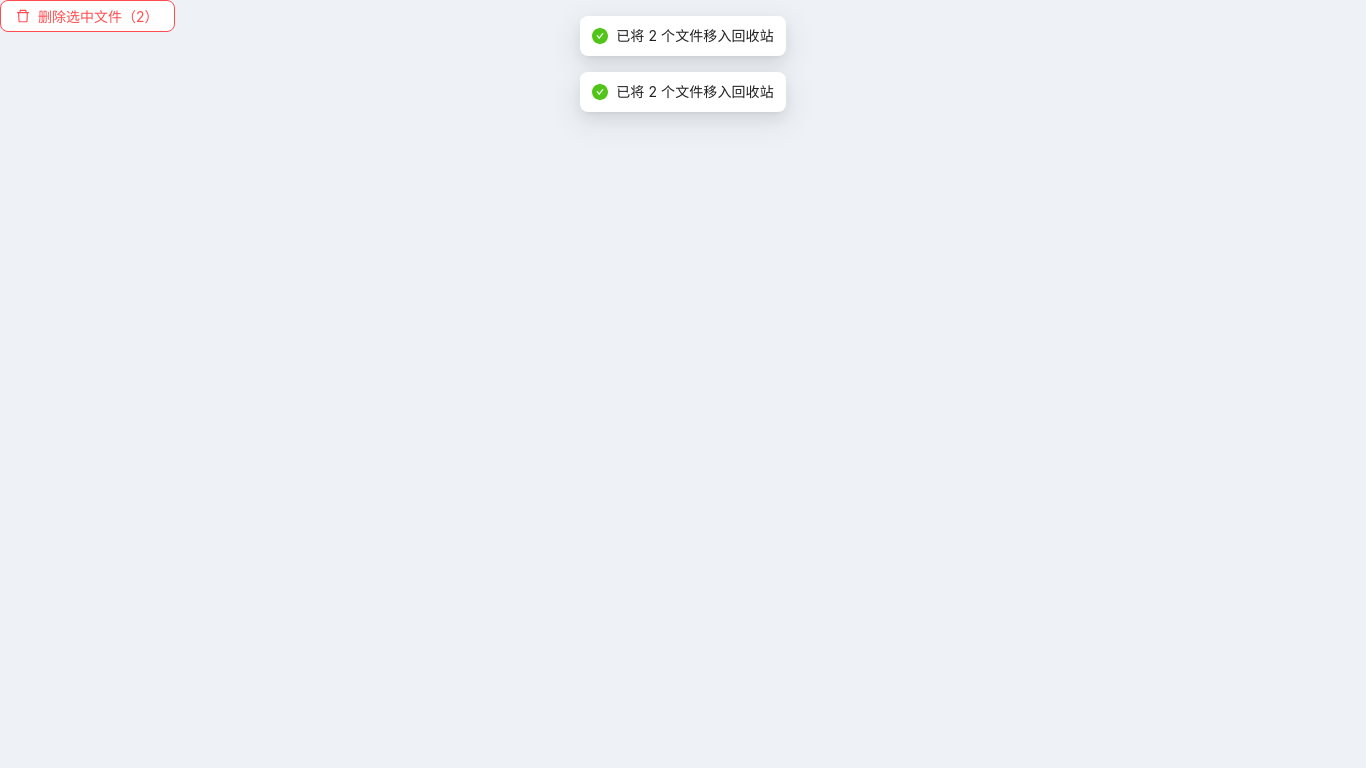
Scenario: Direct file deletion › reports partial failures and retries only the remaining files
Later steps or results of the test are not shown.
Click the button "删除选中文件（2）".
click(87, 16)  # box [0, 0, 174, 32]
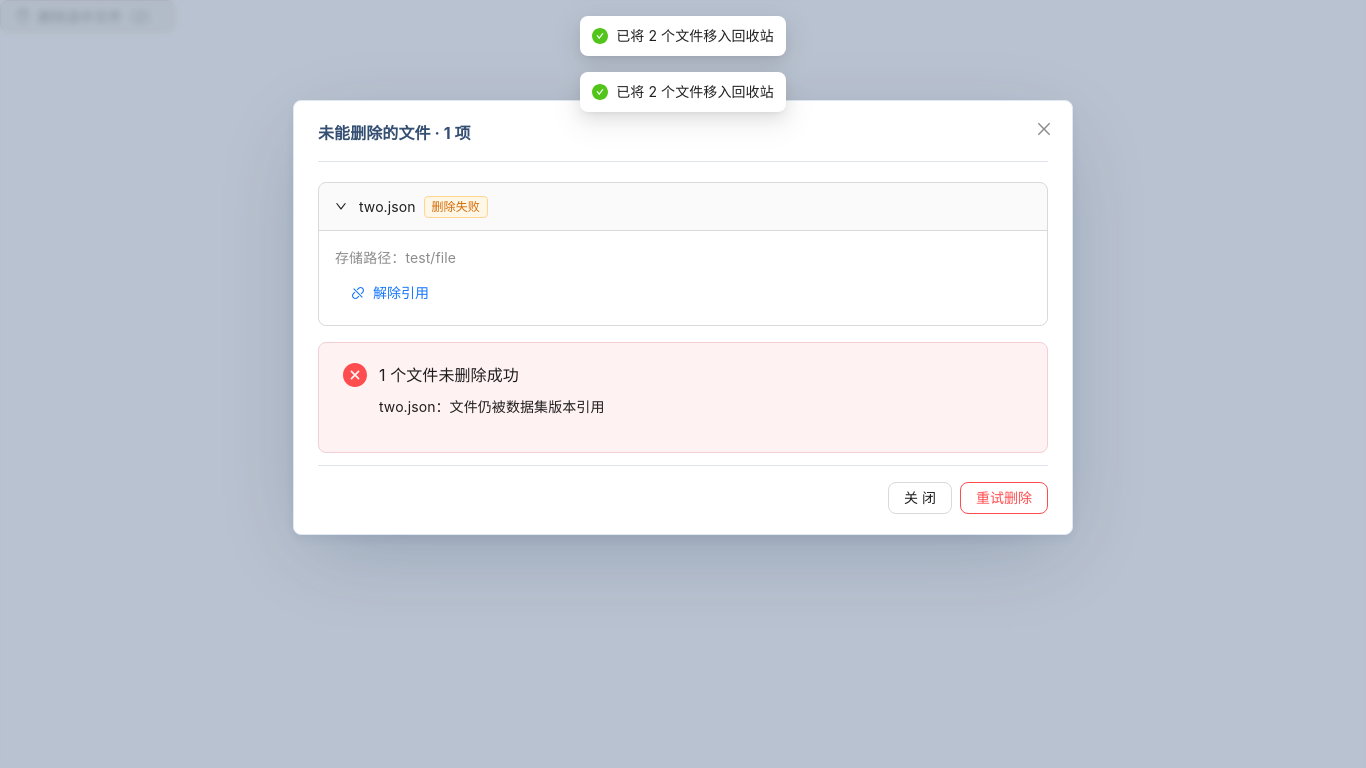
Now the text "two.json：文件仍被数据集版本引用" is shown, box [379, 398, 604, 415]
